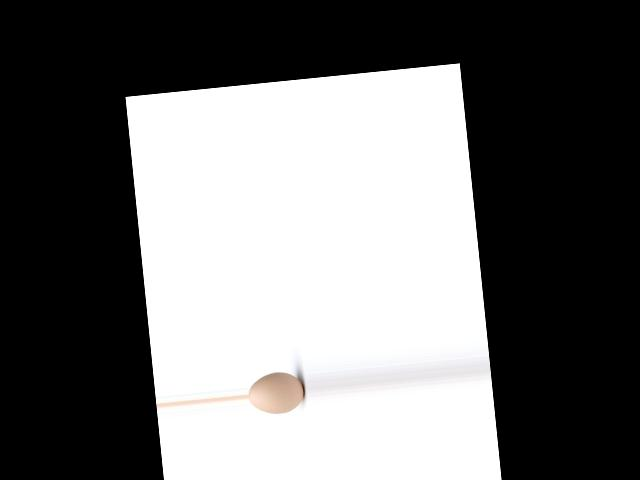egg: (246, 370, 306, 416)
